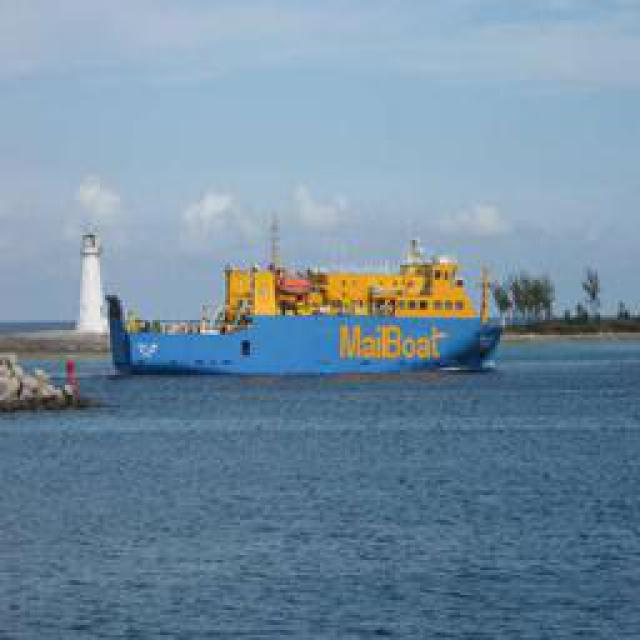Ship: (117, 239, 505, 384)
